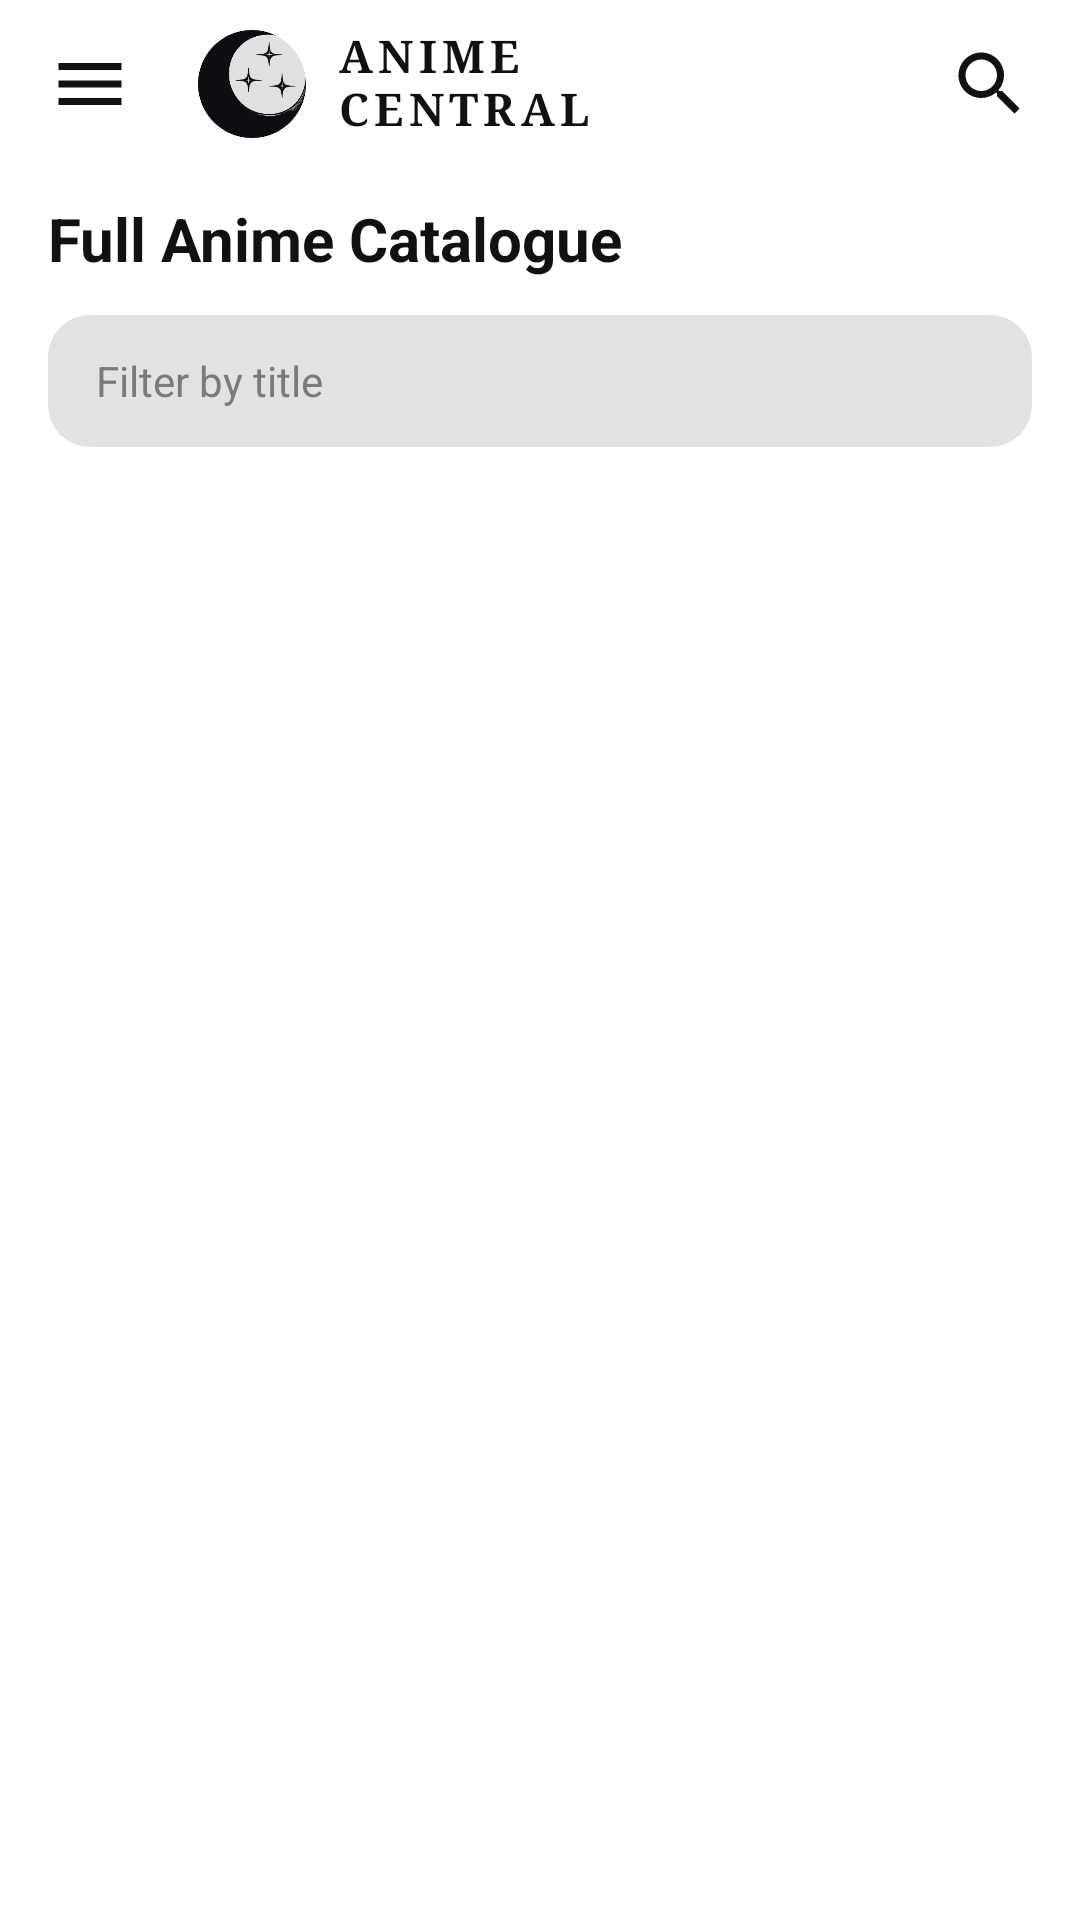

Icon bounding boxes for this 1080 × 1920 phone screenshot, format box(x1, y1, x2, y2):
Menu: box(58, 63, 122, 105)
Search: box(958, 52, 1020, 114)
